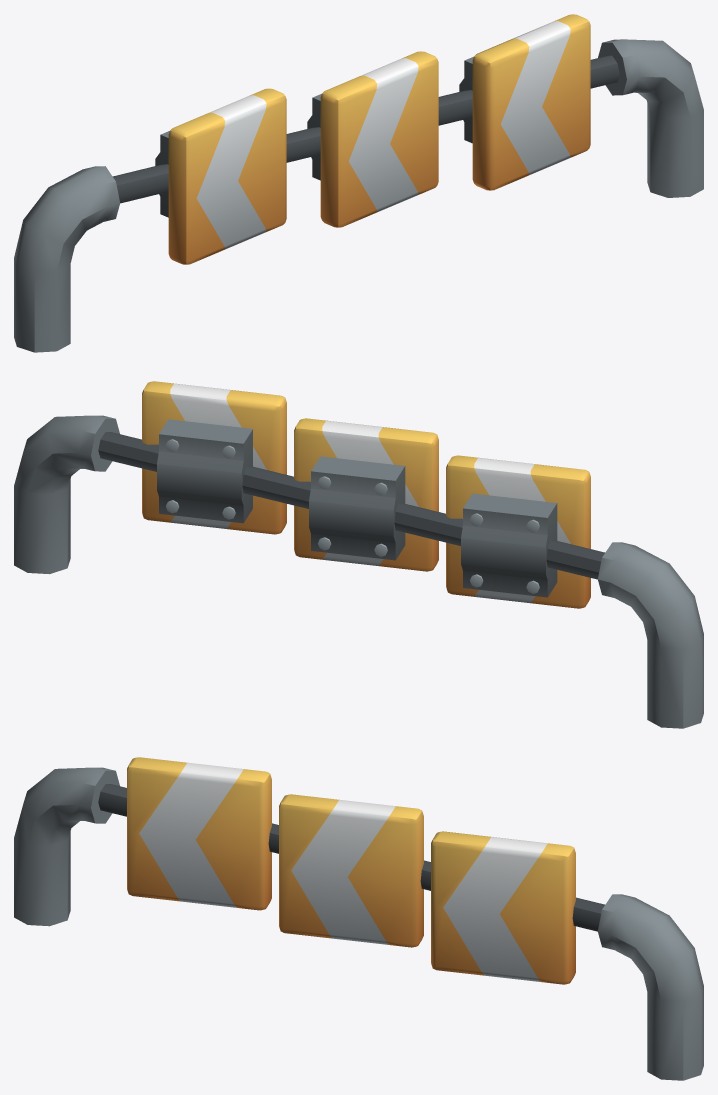
File: signage_arrows_left_yellow.glb
The picture shows the model from 3 angles, top to bottom: view 1: azimuth 30°, elevation 25°; view 2: azimuth 150°, elevation 25°; view 3: azimuth 330°, elevation 25°; orthographic projection.
Parts seen in each view (by area): view 1: signage_arrows_left_yellow; view 2: signage_arrows_left_yellow; view 3: signage_arrows_left_yellow.
Part boxes in pixels (box(x1,y1,x2,y2)): signage_arrows_left_yellow: box(14, 14, 703, 352); signage_arrows_left_yellow: box(14, 381, 703, 728); signage_arrows_left_yellow: box(14, 757, 703, 1080).
Bounding box in the file's own units: 5.4 × 1.5 × 0.6771.
1 material, 1 textured.
